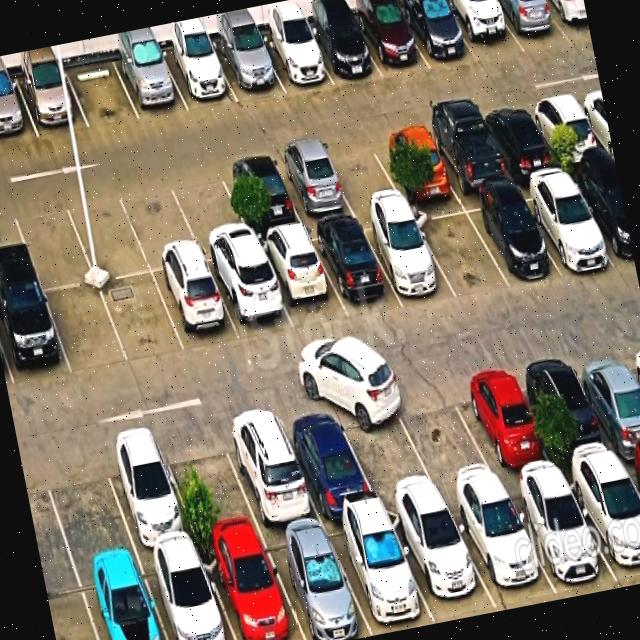empty: (389, 374, 503, 498), (157, 423, 262, 545), (333, 388, 441, 506), (38, 441, 136, 569), (410, 201, 509, 298), (167, 165, 256, 262), (62, 186, 151, 281), (118, 177, 204, 272), (10, 195, 95, 290), (99, 273, 186, 364), (45, 284, 129, 375), (319, 136, 403, 212), (65, 58, 140, 128)
occupied: (324, 511, 435, 636), (504, 476, 618, 595), (446, 487, 557, 608), (217, 405, 322, 532), (386, 501, 497, 621), (451, 362, 559, 485), (261, 525, 372, 640), (97, 431, 198, 555), (275, 400, 379, 520), (519, 350, 621, 472), (199, 535, 305, 640), (515, 174, 616, 274), (563, 461, 640, 587), (461, 190, 560, 287), (255, 229, 348, 332), (308, 219, 402, 318), (359, 210, 456, 304), (140, 547, 235, 640), (569, 342, 640, 459), (153, 263, 241, 353), (207, 254, 294, 341), (77, 558, 167, 640), (422, 114, 511, 194), (0, 288, 71, 387), (567, 165, 635, 268), (218, 155, 304, 236), (271, 145, 355, 224), (372, 125, 457, 199), (478, 102, 560, 177), (526, 92, 607, 166), (352, 3, 430, 78), (397, 0, 478, 69), (304, 15, 382, 85), (442, 0, 525, 64), (113, 51, 189, 120), (160, 44, 238, 111), (15, 67, 89, 137), (257, 28, 334, 93), (212, 36, 285, 102), (491, 0, 571, 52), (0, 77, 38, 145), (543, 0, 592, 43)
